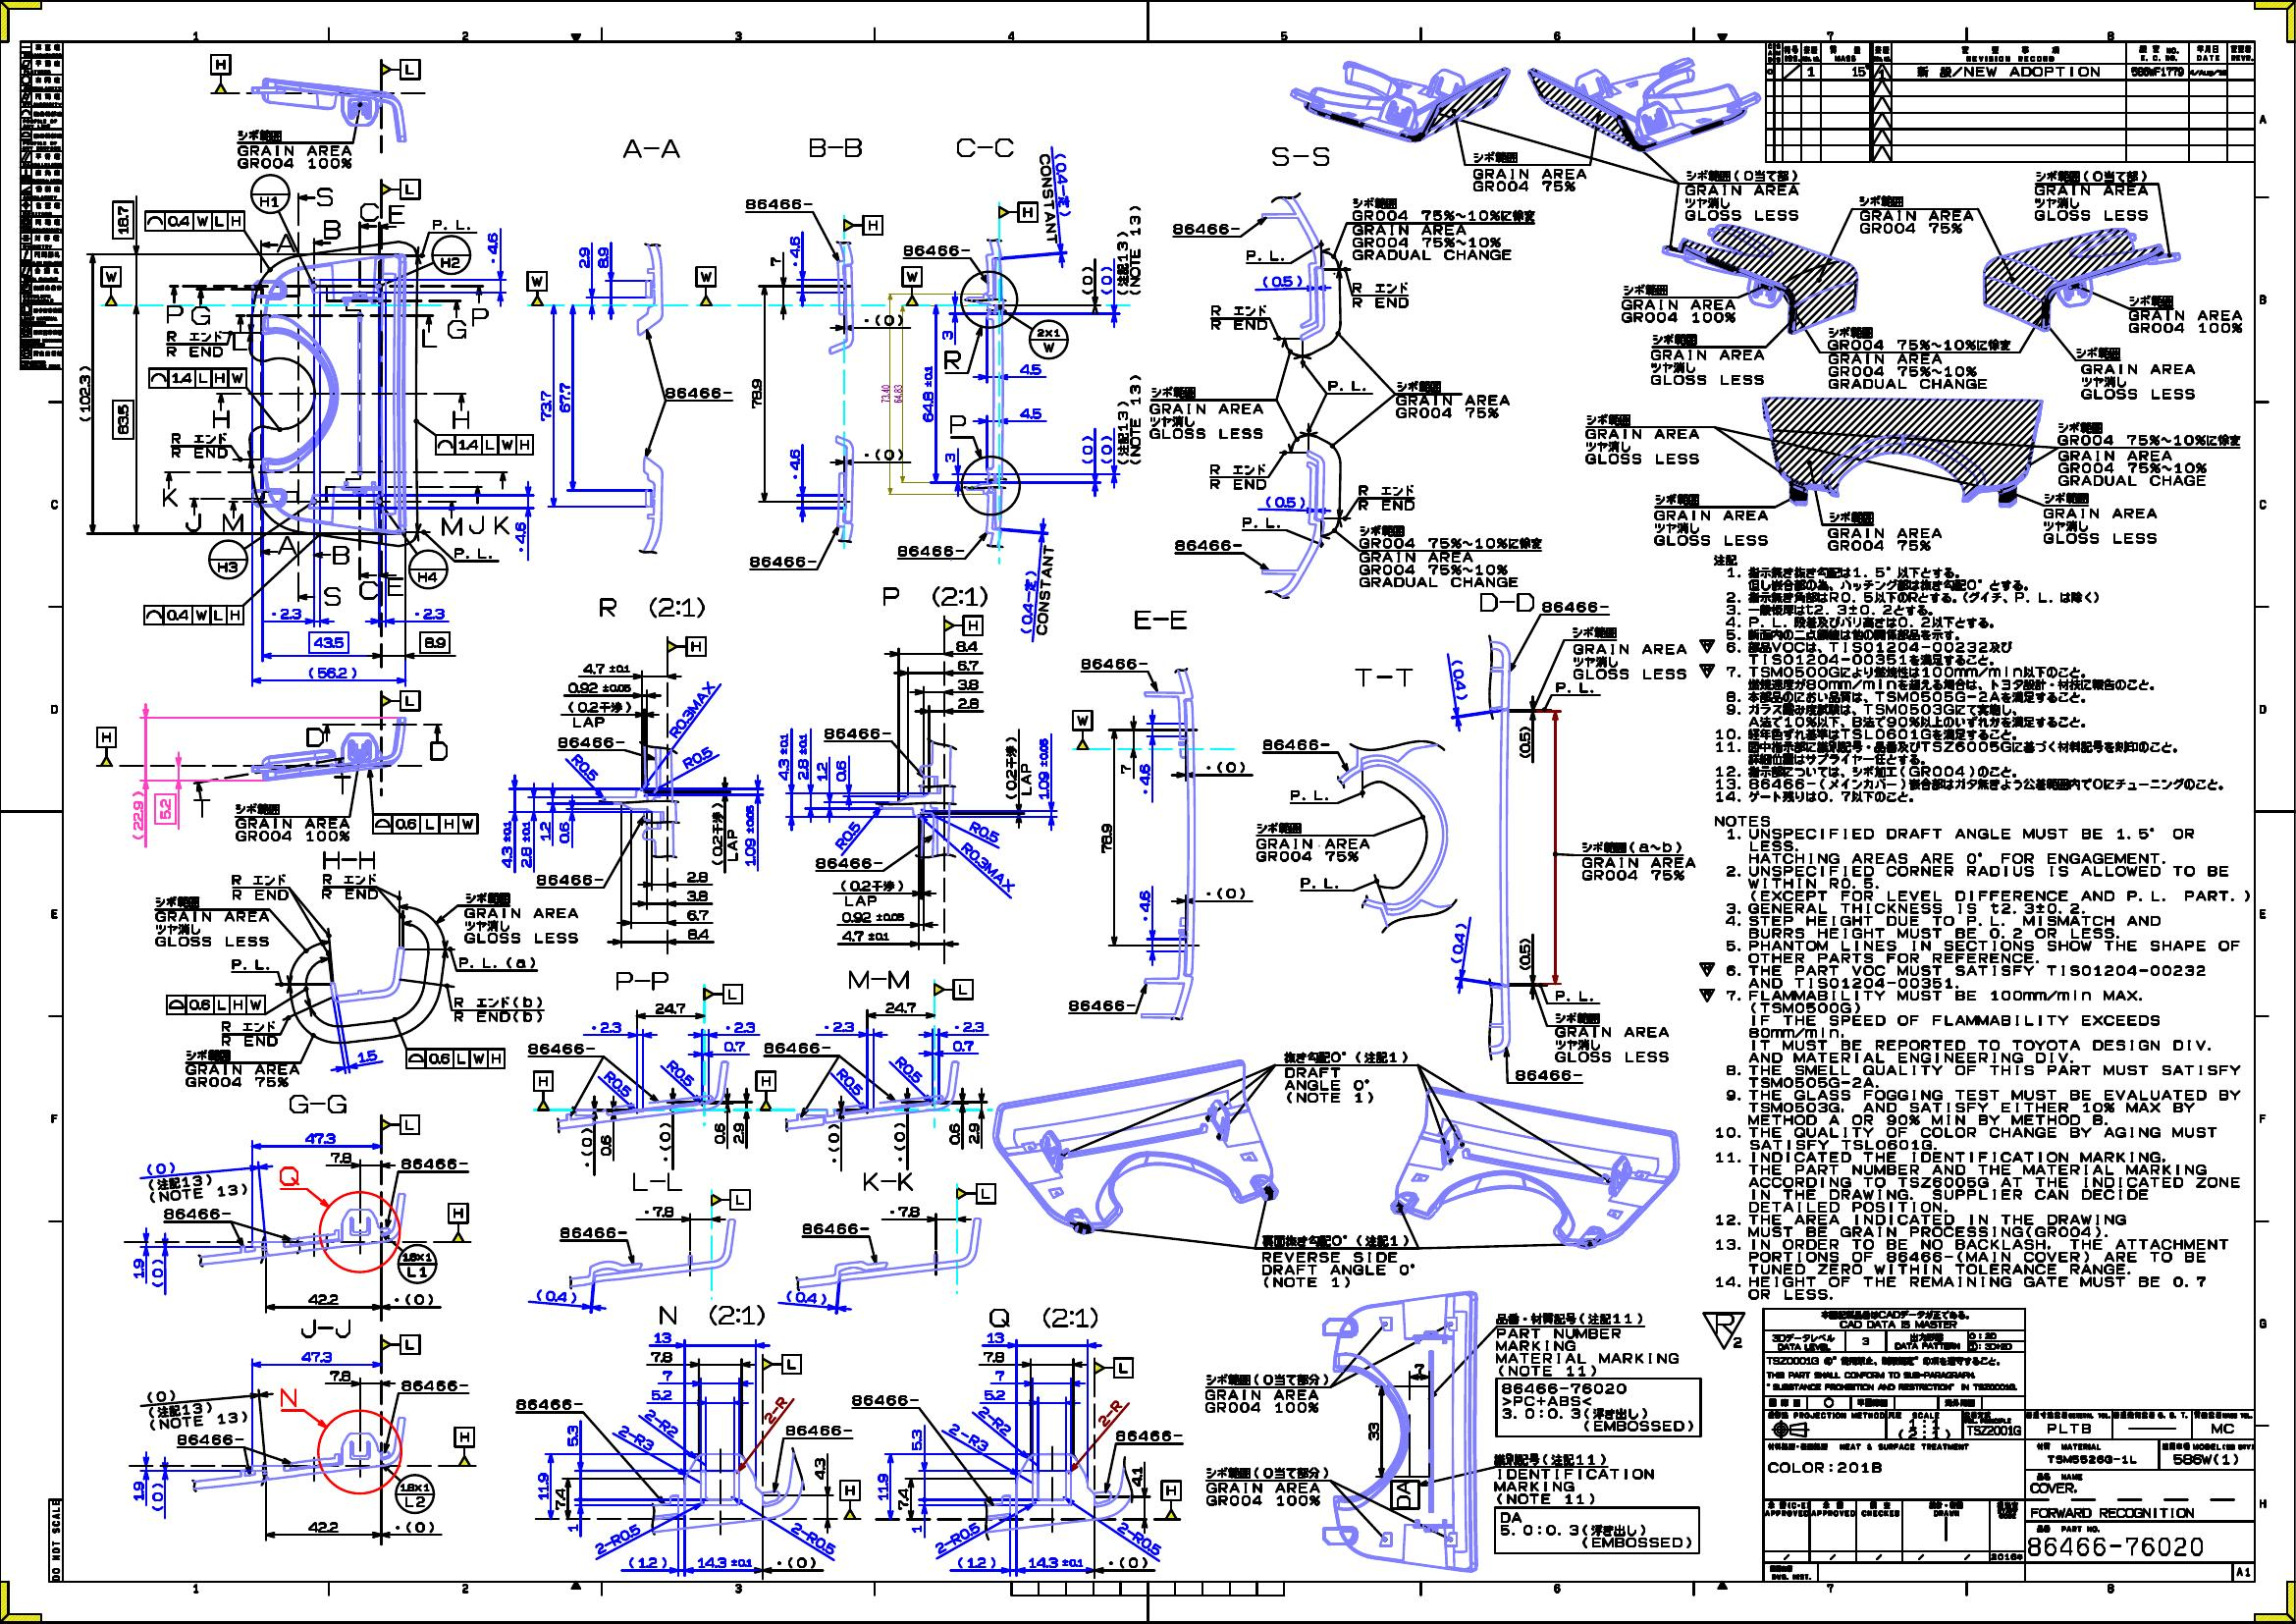anntotation_text: (1695, 808, 2250, 1302), (1700, 554, 2233, 805), (2055, 420, 2242, 490), (1827, 323, 2013, 392), (1349, 197, 1535, 265), (1493, 1309, 1683, 1376), (1493, 1376, 1700, 1436), (1356, 522, 1546, 587), (1491, 1504, 1702, 1552), (1263, 1234, 1416, 1294), (1491, 1452, 1658, 1504), (1147, 385, 1265, 446), (1572, 624, 1692, 684), (2040, 489, 2162, 547), (1651, 490, 1773, 548), (1683, 165, 1802, 223), (2075, 346, 2198, 402), (2032, 167, 2152, 223), (1282, 1051, 1409, 1104), (1585, 411, 1702, 468), (1650, 330, 1764, 387), (1553, 1011, 1669, 1065), (1203, 1371, 1330, 1418), (1203, 1466, 1332, 1510), (2126, 292, 2243, 339), (1618, 279, 1736, 327), (1470, 149, 1588, 197), (1579, 840, 1695, 886), (1857, 193, 1976, 237), (235, 127, 355, 169), (1827, 510, 1941, 554), (184, 1049, 299, 1090), (235, 803, 351, 842), (1256, 821, 1370, 859), (1393, 378, 1507, 417), (141, 1403, 248, 1434), (460, 891, 580, 919), (151, 895, 269, 923), (1114, 204, 1149, 297), (464, 917, 580, 946), (1022, 540, 1054, 640), (596, 592, 704, 620), (1040, 153, 1072, 246), (982, 1306, 1100, 1330), (880, 584, 989, 610), (155, 923, 271, 947), (655, 1302, 769, 1327), (451, 995, 545, 1025), (1114, 374, 1144, 468), (146, 1174, 248, 1200), (404, 1048, 506, 1070), (372, 812, 480, 833), (148, 366, 246, 388), (564, 698, 632, 729), (165, 325, 227, 360), (432, 432, 534, 453), (708, 801, 740, 866), (142, 603, 246, 622), (1354, 482, 1418, 513), (1205, 460, 1272, 490), (163, 995, 265, 1014), (146, 211, 246, 230), (1700, 1306, 1744, 1350), (1003, 733, 1031, 801), (841, 877, 905, 907), (1209, 302, 1272, 332), (393, 1471, 437, 1513), (429, 234, 474, 274), (170, 432, 230, 462), (805, 135, 868, 163), (408, 548, 448, 591), (248, 172, 290, 213), (397, 1243, 439, 1283), (207, 538, 249, 578), (218, 1019, 278, 1048), (230, 872, 290, 900), (320, 872, 379, 900), (1349, 279, 1409, 308), (1029, 320, 1070, 360), (841, 968, 912, 991), (1476, 589, 1535, 615), (622, 135, 680, 162), (286, 1093, 353, 1116), (1354, 664, 1414, 689), (1272, 144, 1332, 169), (299, 1318, 355, 1343), (627, 1171, 683, 1195), (1130, 608, 1189, 631), (610, 967, 669, 990), (950, 858, 1026, 875), (320, 849, 378, 872), (47, 1499, 63, 1582), (1173, 534, 1240, 554), (952, 139, 1017, 158), (822, 724, 892, 742), (903, 239, 973, 257), (859, 1171, 917, 1192), (555, 733, 629, 749), (1260, 735, 1333, 750), (650, 701, 733, 715), (813, 856, 885, 872), (782, 1420, 854, 1436), (894, 543, 966, 559), (662, 385, 734, 401), (457, 954, 536, 968), (761, 1040, 831, 1056), (399, 1378, 469, 1394), (801, 1220, 871, 1236), (515, 1397, 585, 1413), (850, 1392, 921, 1408), (1173, 221, 1244, 237), (747, 554, 817, 569), (1110, 1429, 1186, 1443), (177, 1432, 244, 1448), (745, 195, 812, 211), (207, 54, 235, 91), (532, 872, 606, 886), (555, 1223, 629, 1237), (1091, 1353, 1133, 1378), (1541, 599, 1613, 613), (532, 1067, 555, 1111), (376, 178, 423, 199), (942, 612, 982, 636), (998, 199, 1038, 223), (1065, 997, 1135, 1011), (446, 1200, 469, 1243), (98, 264, 121, 306), (1390, 1478, 1421, 1508), (163, 1206, 230, 1220), (708, 1190, 752, 1211), (1159, 1476, 1180, 1520), (379, 689, 420, 712), (1551, 986, 1599, 1005), (453, 1425, 474, 1468), (761, 1353, 803, 1374), (523, 1042, 596, 1055), (1513, 1069, 1583, 1081), (95, 726, 116, 766), (1072, 710, 1093, 750), (933, 977, 973, 998), (841, 214, 882, 236), (378, 60, 422, 79), (228, 953, 272, 972), (755, 1069, 775, 1113), (378, 1332, 422, 1352), (703, 982, 745, 1002), (696, 265, 715, 308), (1242, 248, 1288, 265), (901, 265, 921, 306), (397, 1158, 471, 1169), (838, 1480, 859, 1517), (666, 636, 708, 654), (1298, 874, 1340, 891), (1288, 786, 1333, 801), (957, 1185, 998, 1202), (1080, 657, 1147, 668), (1555, 678, 1599, 694), (188, 302, 214, 329), (427, 218, 474, 232), (379, 1116, 422, 1132), (313, 183, 337, 209), (278, 1162, 304, 1186), (453, 545, 494, 561), (274, 1385, 299, 1410), (357, 575, 379, 601), (529, 272, 546, 306), (1326, 378, 1367, 392), (444, 318, 469, 341), (158, 483, 181, 508), (221, 513, 248, 534), (274, 533, 295, 559), (207, 408, 230, 431), (490, 513, 511, 536), (450, 408, 473, 429), (469, 306, 490, 329), (358, 202, 379, 225), (320, 584, 341, 606), (441, 518, 462, 540), (278, 232, 299, 253), (1242, 517, 1284, 527), (162, 304, 183, 325), (466, 515, 485, 538), (420, 329, 439, 352), (332, 773, 351, 796), (429, 738, 448, 761), (949, 415, 968, 438), (321, 218, 341, 239), (304, 726, 323, 747), (184, 510, 204, 531), (330, 543, 350, 564), (385, 575, 402, 598), (943, 348, 959, 373), (386, 202, 404, 223), (193, 798, 211, 817)
dimension_text: (1033, 735, 1052, 801), (840, 909, 908, 926), (741, 801, 759, 868), (919, 366, 935, 429), (783, 1529, 845, 1545), (306, 663, 360, 680), (1024, 1552, 1084, 1568), (587, 1529, 646, 1545), (77, 362, 93, 422), (306, 631, 350, 652), (497, 819, 515, 870), (856, 311, 906, 329), (889, 1121, 908, 1167), (518, 819, 536, 868), (112, 199, 134, 239), (390, 1517, 437, 1534), (386, 1290, 434, 1308), (1200, 884, 1247, 902), (696, 1555, 754, 1570), (1114, 1529, 1165, 1545), (775, 733, 791, 784), (840, 928, 891, 944), (1514, 935, 1534, 975), (112, 401, 132, 441), (933, 1527, 982, 1543), (617, 1429, 661, 1446), (783, 1287, 827, 1304), (1256, 272, 1303, 288), (639, 1415, 682, 1432), (536, 1288, 578, 1306), (132, 789, 146, 842), (511, 515, 529, 557), (773, 1554, 819, 1570), (155, 793, 177, 824), (824, 1121, 841, 1162), (1105, 1554, 1149, 1570), (1203, 758, 1247, 773), (1263, 494, 1307, 510), (1093, 1404, 1131, 1422), (748, 374, 766, 413), (882, 1202, 924, 1218), (1449, 659, 1465, 701), (265, 605, 307, 620), (148, 1480, 165, 1517), (657, 1121, 671, 1167), (299, 1128, 339, 1144), (420, 631, 450, 652), (299, 1346, 337, 1362), (306, 1519, 344, 1534), (304, 1292, 343, 1308), (1096, 819, 1112, 858), (485, 227, 501, 265), (796, 733, 808, 782), (627, 1555, 669, 1570), (1449, 923, 1463, 965), (831, 1076, 868, 1091), (891, 1062, 928, 1077), (149, 1255, 165, 1292), (413, 605, 450, 620), (956, 1555, 996, 1570), (973, 1413, 1014, 1427), (787, 232, 801, 272), (555, 376, 569, 417), (945, 1432, 991, 1445), (952, 1019, 987, 1035), (822, 1019, 857, 1035), (661, 1065, 696, 1081), (1079, 264, 1096, 295), (580, 1128, 594, 1167), (678, 749, 717, 763), (966, 826, 1005, 840), (653, 998, 687, 1014), (1137, 888, 1152, 921), (1516, 724, 1532, 758), (1098, 264, 1114, 297), (142, 1160, 179, 1174), (567, 761, 604, 775), (863, 446, 905, 459), (538, 388, 552, 425), (761, 1401, 792, 1417), (534, 1469, 550, 1501), (884, 1000, 915, 1016), (641, 1202, 673, 1218), (601, 1077, 636, 1091), (722, 1019, 757, 1033), (1017, 362, 1045, 380), (146, 1388, 176, 1404), (829, 831, 866, 844), (1100, 429, 1112, 466), (731, 1121, 747, 1149), (574, 246, 590, 274), (982, 1348, 1007, 1366), (956, 638, 980, 656), (1138, 763, 1151, 798), (787, 446, 799, 482), (683, 889, 710, 905), (954, 657, 980, 673), (590, 1021, 624, 1033), (1080, 432, 1093, 466), (722, 1039, 745, 1056), (128, 1257, 146, 1280), (957, 692, 980, 710), (812, 1455, 826, 1483), (566, 1422, 580, 1450), (538, 819, 553, 844), (687, 926, 711, 942), (687, 907, 711, 923), (683, 868, 708, 884), (597, 1132, 611, 1158), (355, 1051, 381, 1065), (557, 821, 571, 847), (833, 758, 847, 784), (1017, 406, 1043, 420), (877, 1471, 889, 1501), (130, 1480, 144, 1504), (982, 1387, 1007, 1401), (950, 1039, 975, 1053), (966, 1121, 980, 1146), (949, 1121, 963, 1146), (711, 1121, 724, 1149), (956, 677, 980, 691), (653, 1329, 673, 1346), (329, 1369, 351, 1383), (1130, 1464, 1144, 1487), (910, 1427, 924, 1450), (650, 1350, 673, 1364), (330, 1149, 353, 1164), (938, 325, 956, 343), (898, 1487, 910, 1512), (553, 1487, 566, 1512), (815, 756, 827, 780), (892, 381, 905, 406), (650, 1388, 671, 1403), (880, 381, 892, 404), (597, 248, 610, 269), (987, 1330, 1005, 1343), (768, 253, 780, 271), (1119, 761, 1131, 777), (945, 448, 957, 464), (566, 1522, 580, 1534), (910, 1522, 922, 1534), (993, 1369, 1005, 1381), (659, 1369, 671, 1381)
object: (248, 239, 418, 548), (993, 1056, 1279, 1234), (1388, 1084, 1679, 1251), (1319, 1290, 1479, 1573), (1760, 395, 2047, 508), (1258, 192, 1326, 601), (1525, 56, 1762, 155), (288, 903, 450, 1044), (1657, 223, 1857, 336), (1337, 742, 1458, 926), (1982, 225, 2182, 330), (1142, 668, 1198, 1026), (1284, 58, 1513, 144), (197, 1190, 406, 1269), (191, 1417, 406, 1492), (978, 1452, 1137, 1540), (796, 1220, 987, 1290), (569, 1216, 738, 1295), (652, 1452, 805, 1536), (782, 1060, 959, 1132), (557, 1060, 729, 1134), (964, 239, 1005, 548), (1484, 640, 1513, 1056), (248, 76, 408, 146), (248, 717, 411, 784), (636, 239, 668, 555), (599, 745, 682, 859), (875, 742, 952, 859), (831, 237, 856, 543)
title_block: (1764, 1308, 2257, 1584), (1764, 40, 2252, 163), (18, 40, 65, 367)
